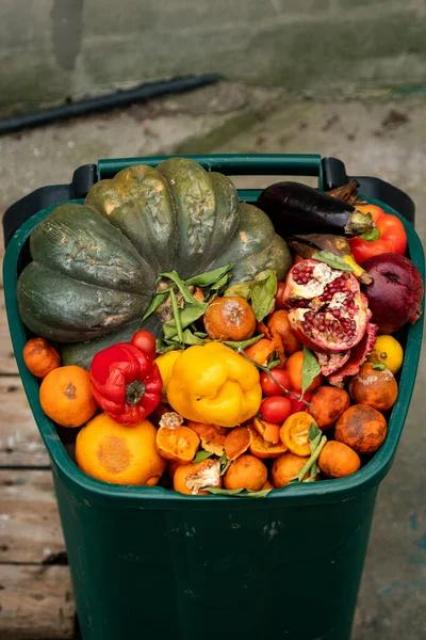Garbage: (15, 157, 426, 485)
